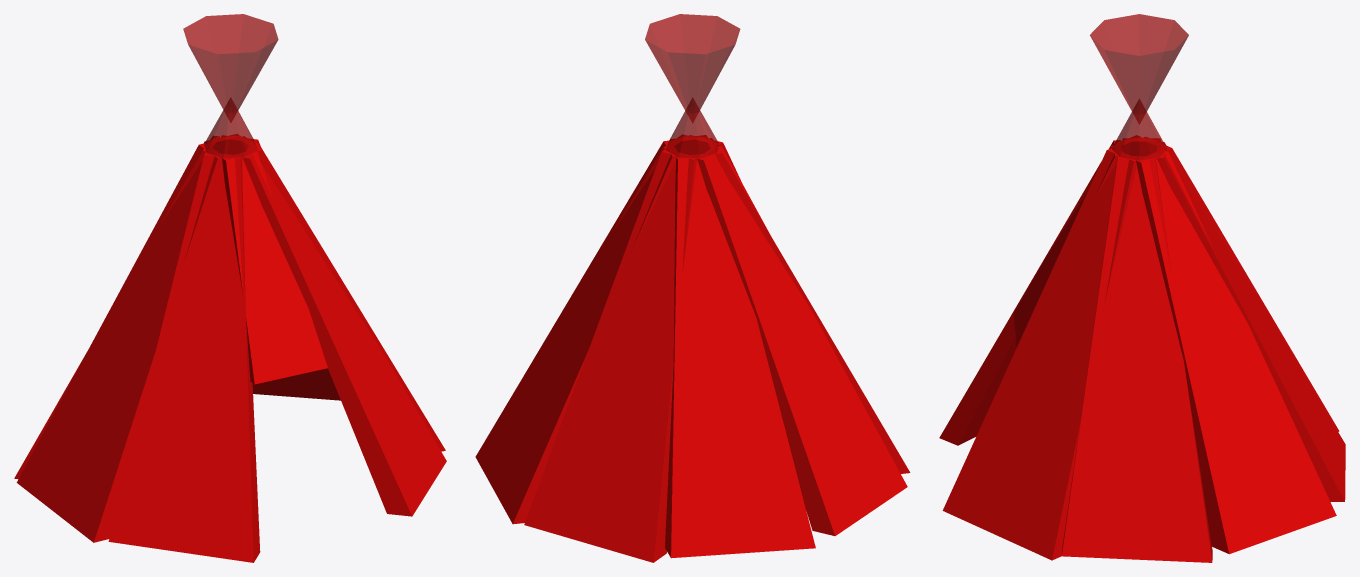
File: SM_Bld_Teepee_01_Collision.fbx
3 renders of one model, left to right at view 1: azimuth 30°, elevation 25°; view 2: azimuth 150°, elevation 25°; view 3: azimuth 270°, elevation 25°, orthographic.
Visible parts, largest first — view 1: SM_Bld_Teepee_01_Collision; view 2: SM_Bld_Teepee_01_Collision; view 3: SM_Bld_Teepee_01_Collision.
Boxes of the visible parts, x1=… form: SM_Bld_Teepee_01_Collision: x1=14, y1=14, x2=446, y2=562; SM_Bld_Teepee_01_Collision: x1=475, y1=14, x2=910, y2=562; SM_Bld_Teepee_01_Collision: x1=939, y1=14, x2=1345, y2=562.
Bounding box in the file's own units: 524 × 616 × 515.
